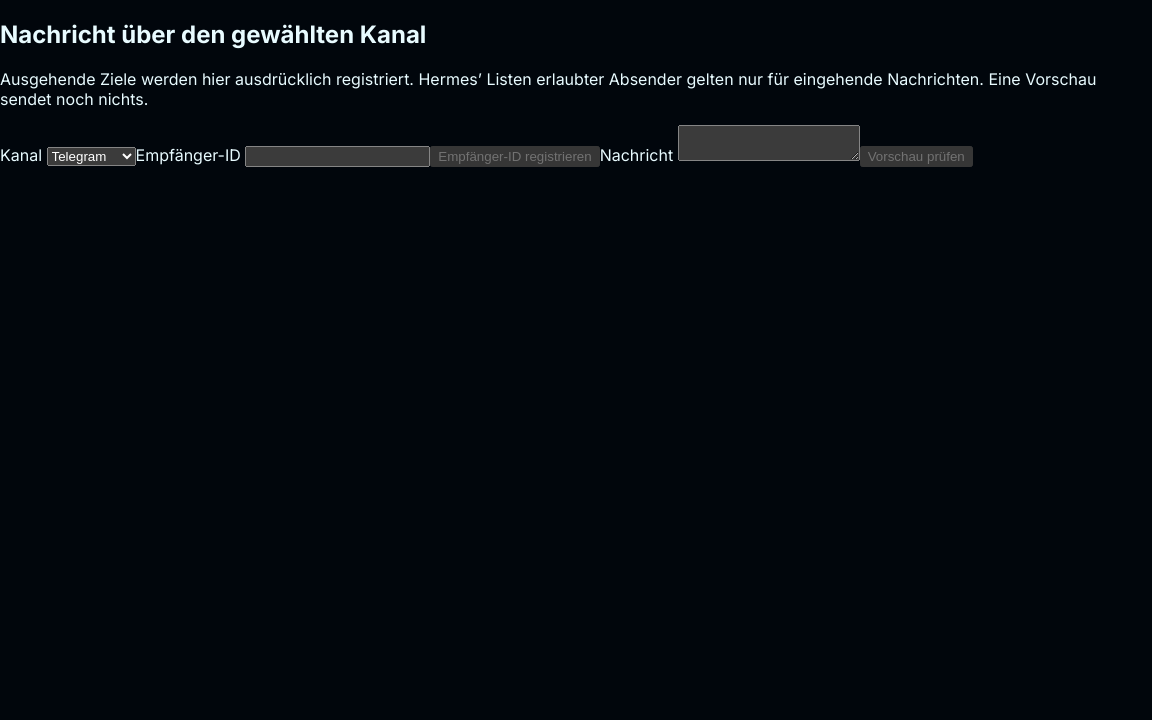
it: MessengerCompose plain send › stages the exact message and sends it only after the server preview is confirmed
The image size is (1152, 720).
Type "12345678" into the field labelled "Empfänger-ID" at [338, 156], box [245,146,430,167]
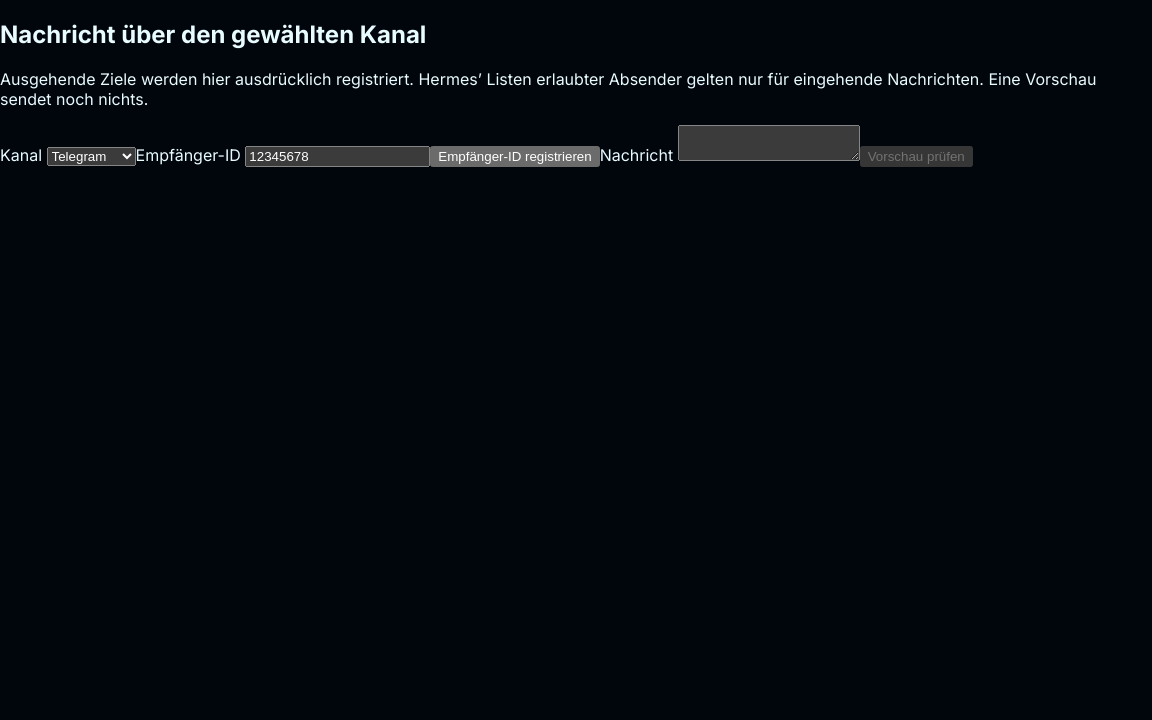
Type "Synthetic only" into the text box labelled "Nachricht" at [769, 143], box [678,125,860,161]
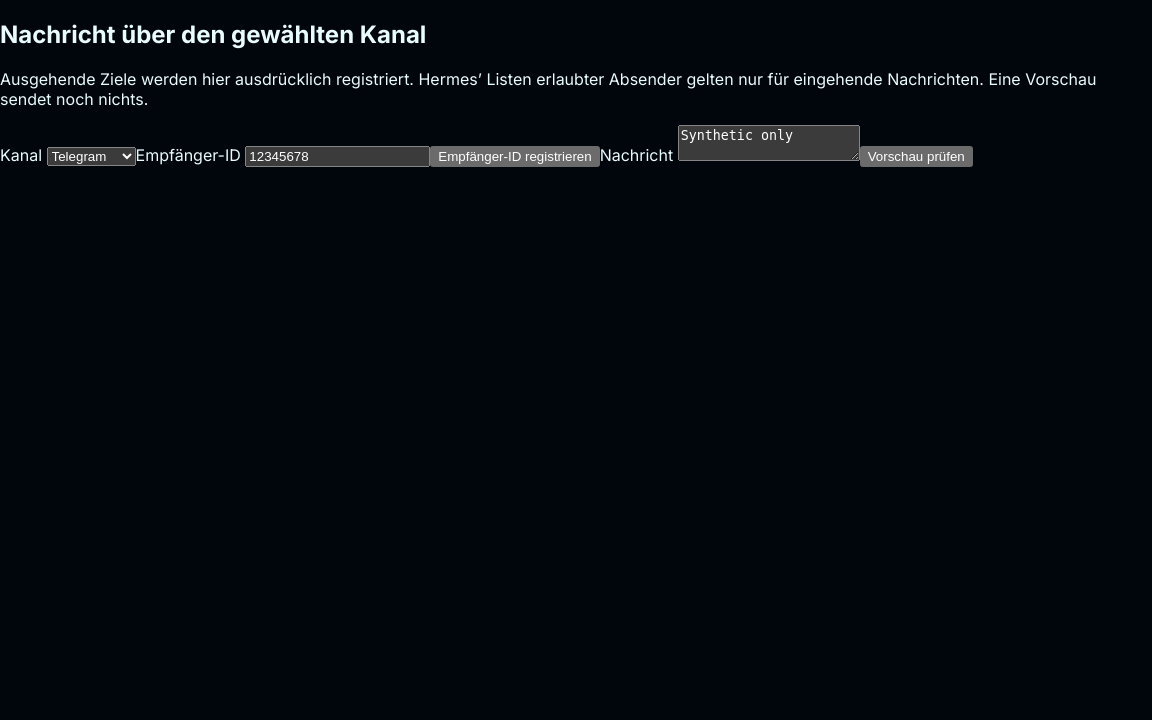
Click the button "Vorschau prüfen" at [916, 156], box [860,146,973,167]
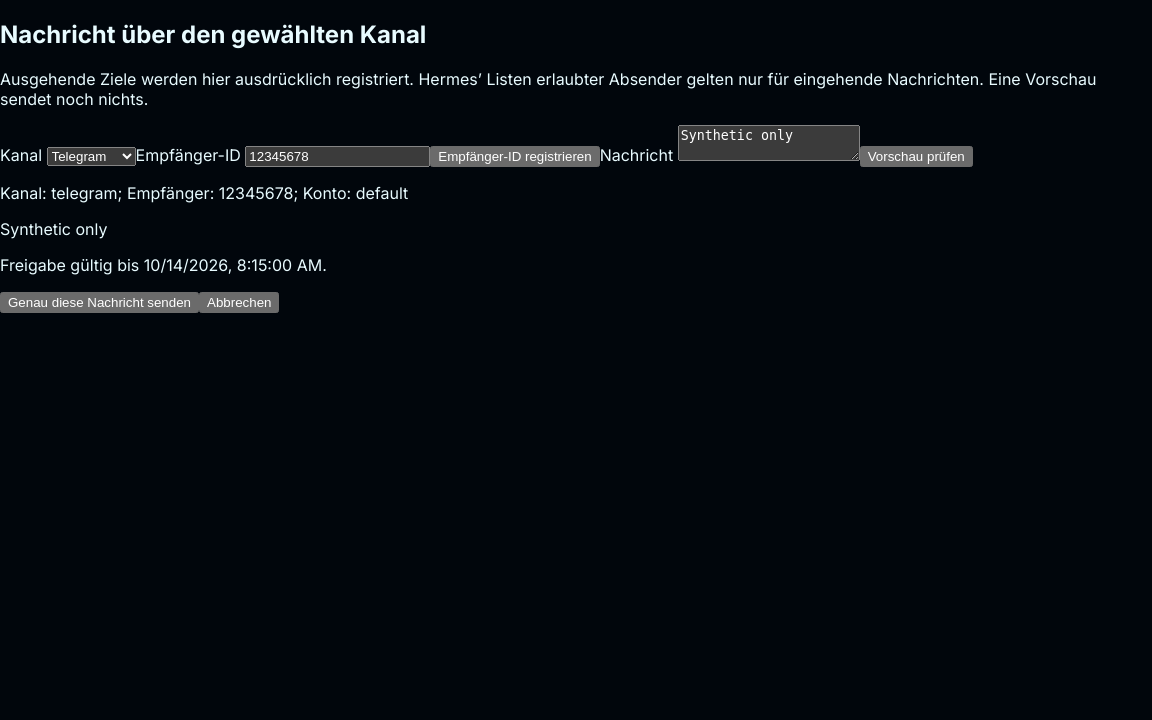
Click the button "Genau diese Nachricht senden" at [100, 302], box [0,292,199,313]
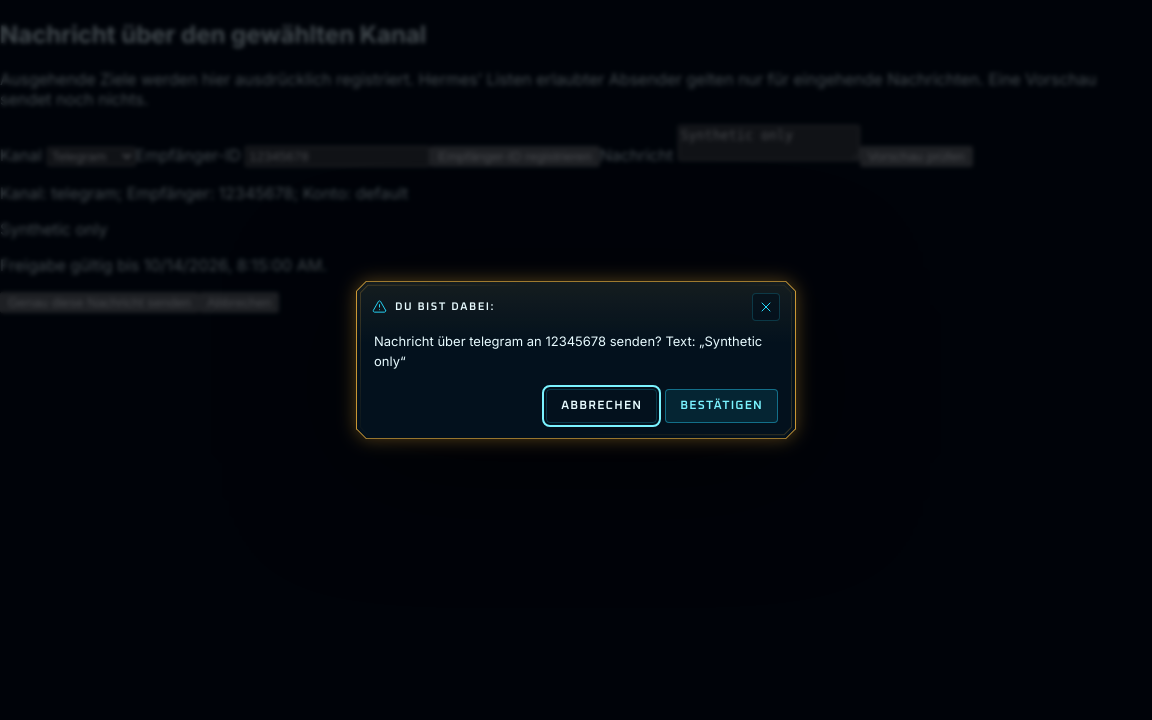
Result: the text "Nachricht über telegram an 12345678 senden? Text: „Synthetic only“" is shown at [356,325,796,375]
Click the button "Bestätigen" at [722, 406], box [665,389,778,423]
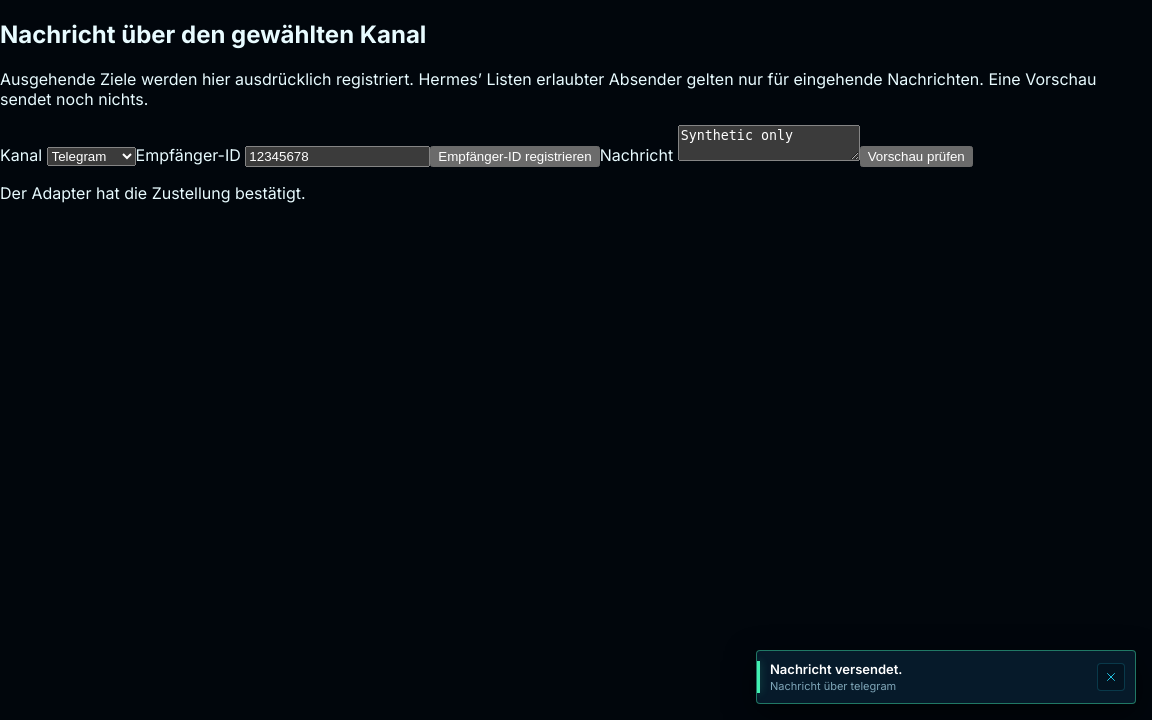
Result: the text "Der Adapter hat die Zustellung bestätigt." is shown at [0,183,306,203]
Result: the element "Versandfreigabe" is gone
